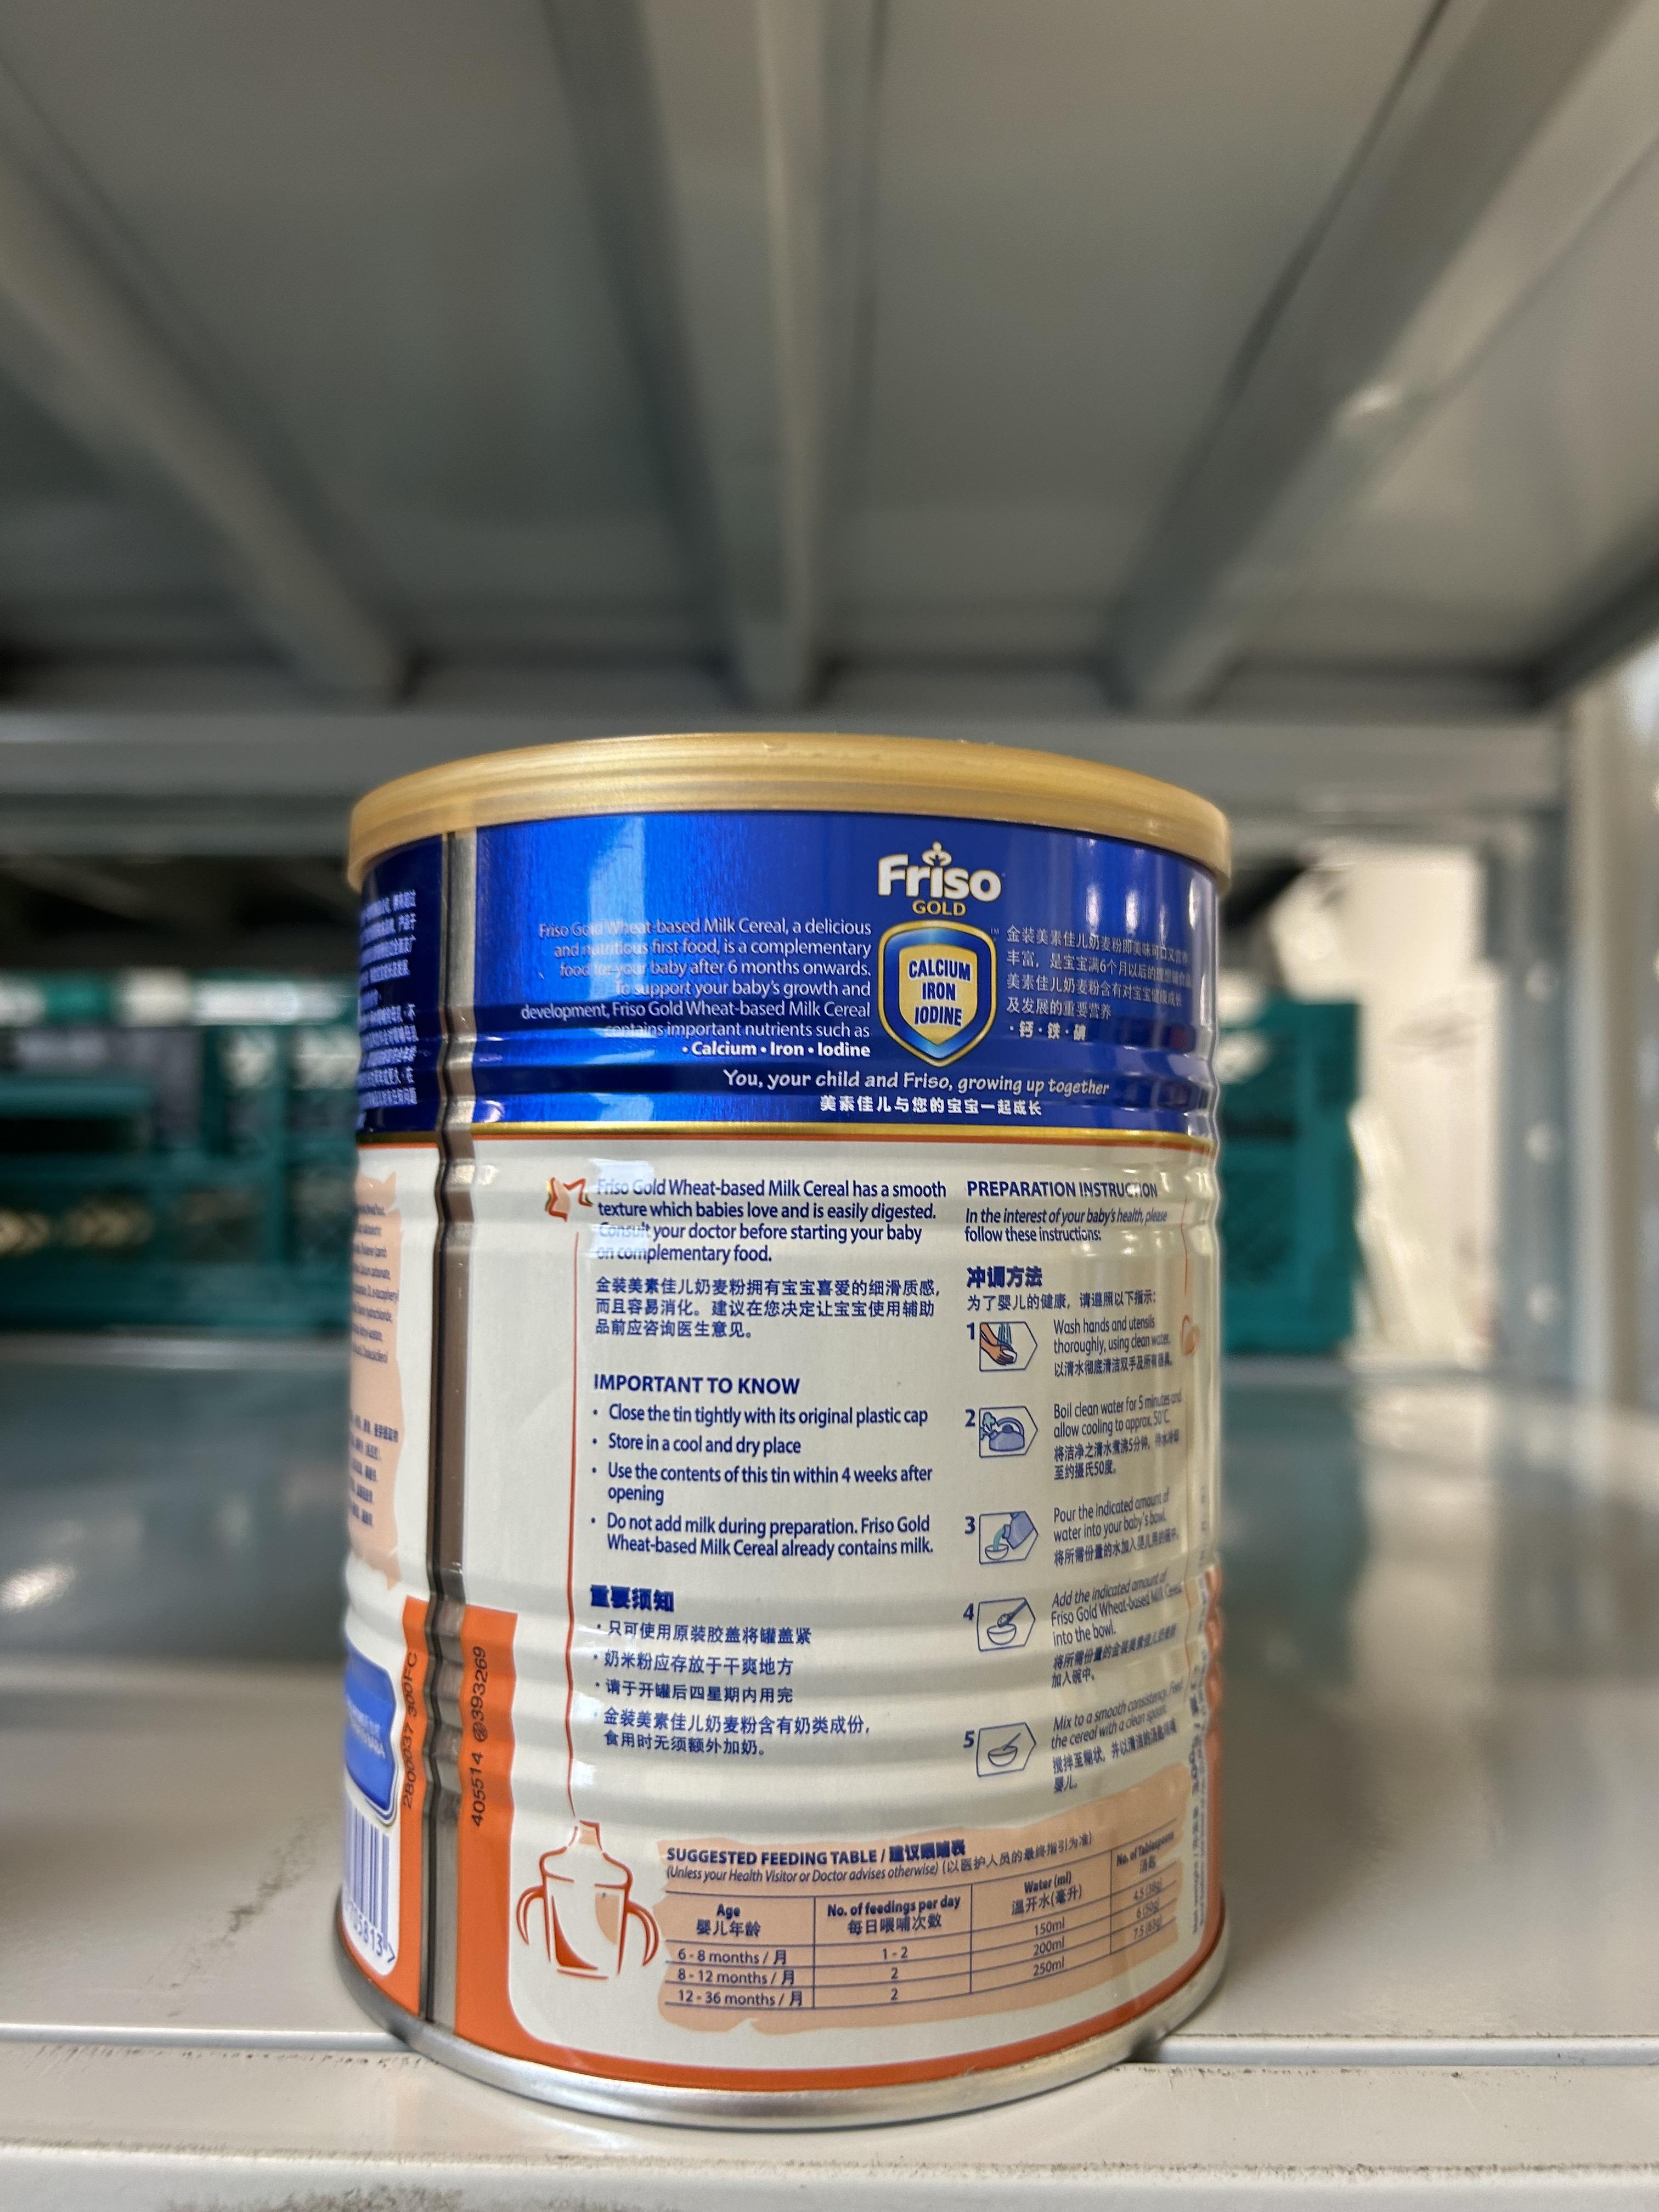object_name: (362, 801, 1220, 2024)
